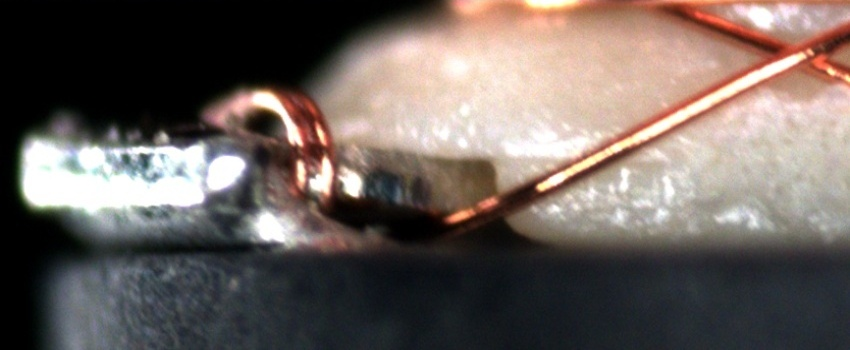CL: (751, 26, 844, 83)
DL: (511, 140, 675, 177)
TE: (208, 72, 350, 209)
